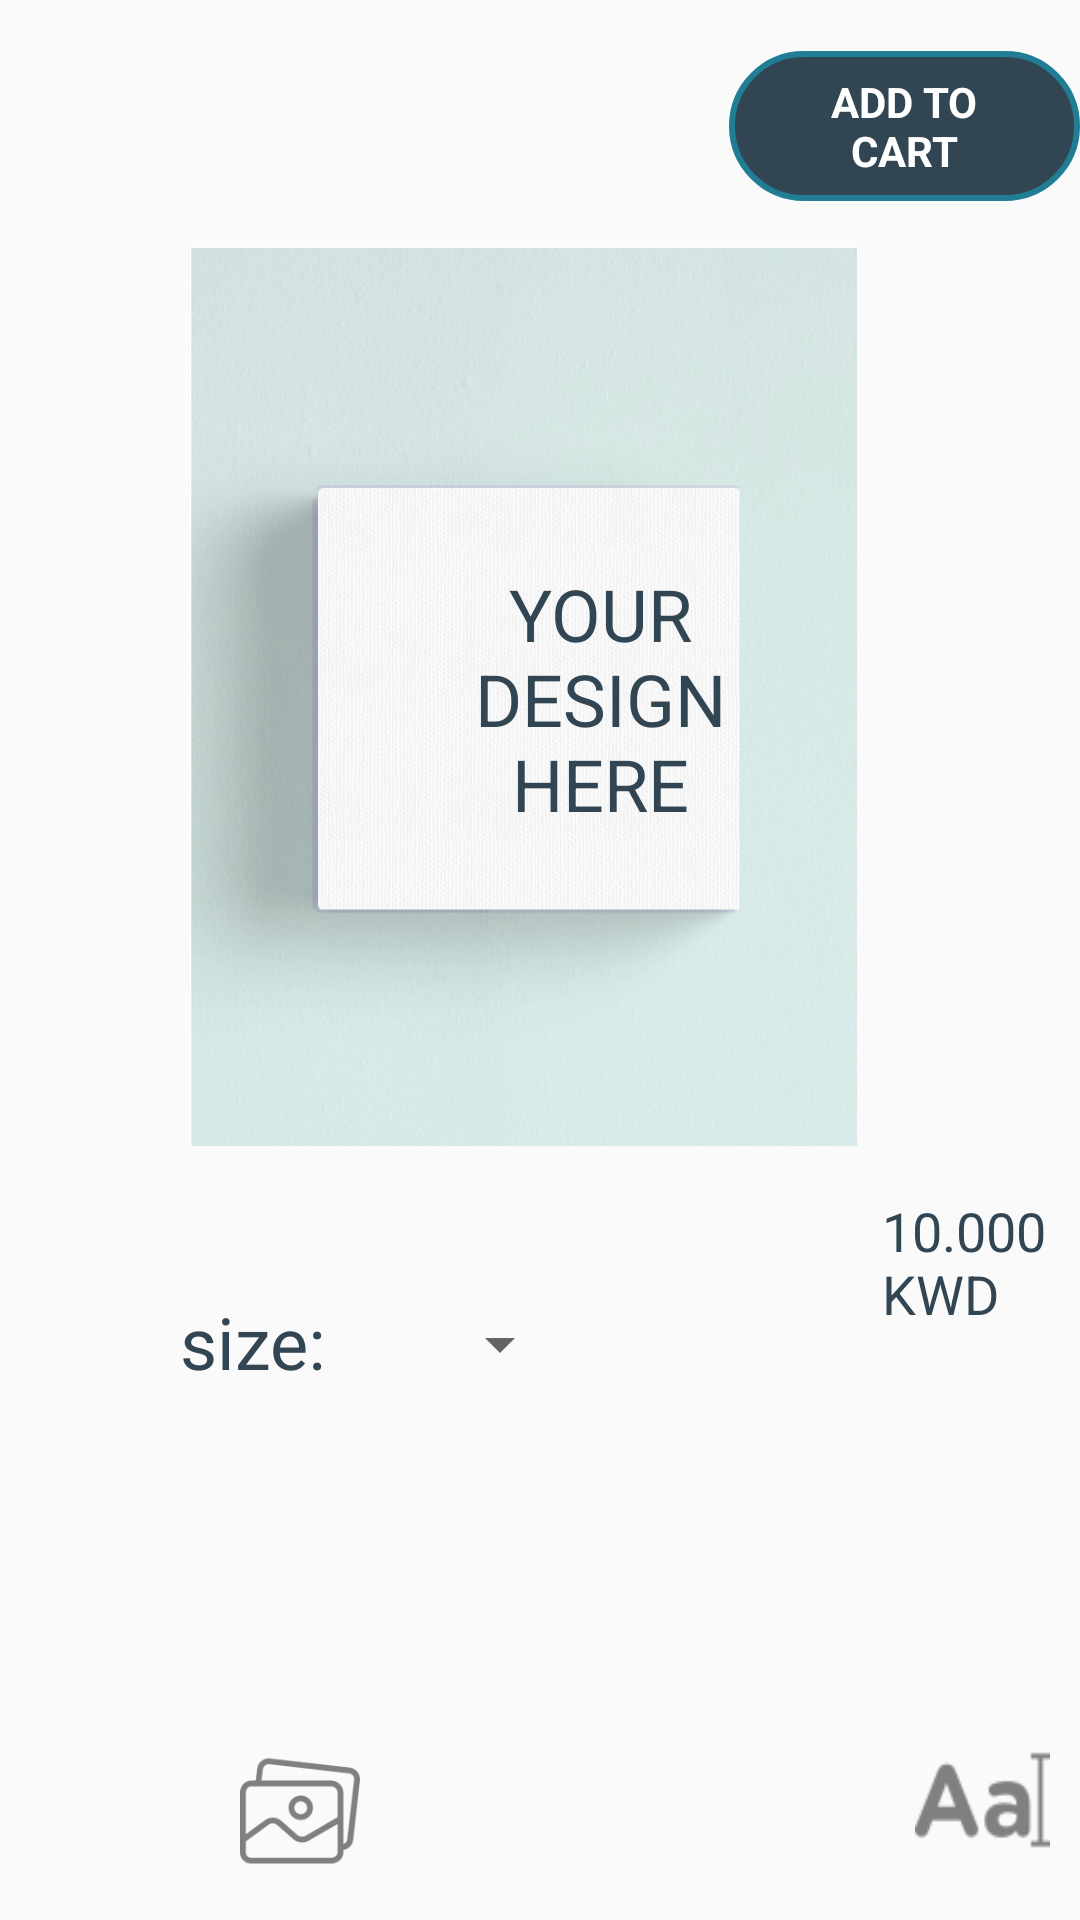

Where icons sit on this 1080w x 1920h app screen, as (x1, y1, x2, y2):
font: (915, 1753, 1050, 1847)
gallery: (240, 1758, 360, 1864)
